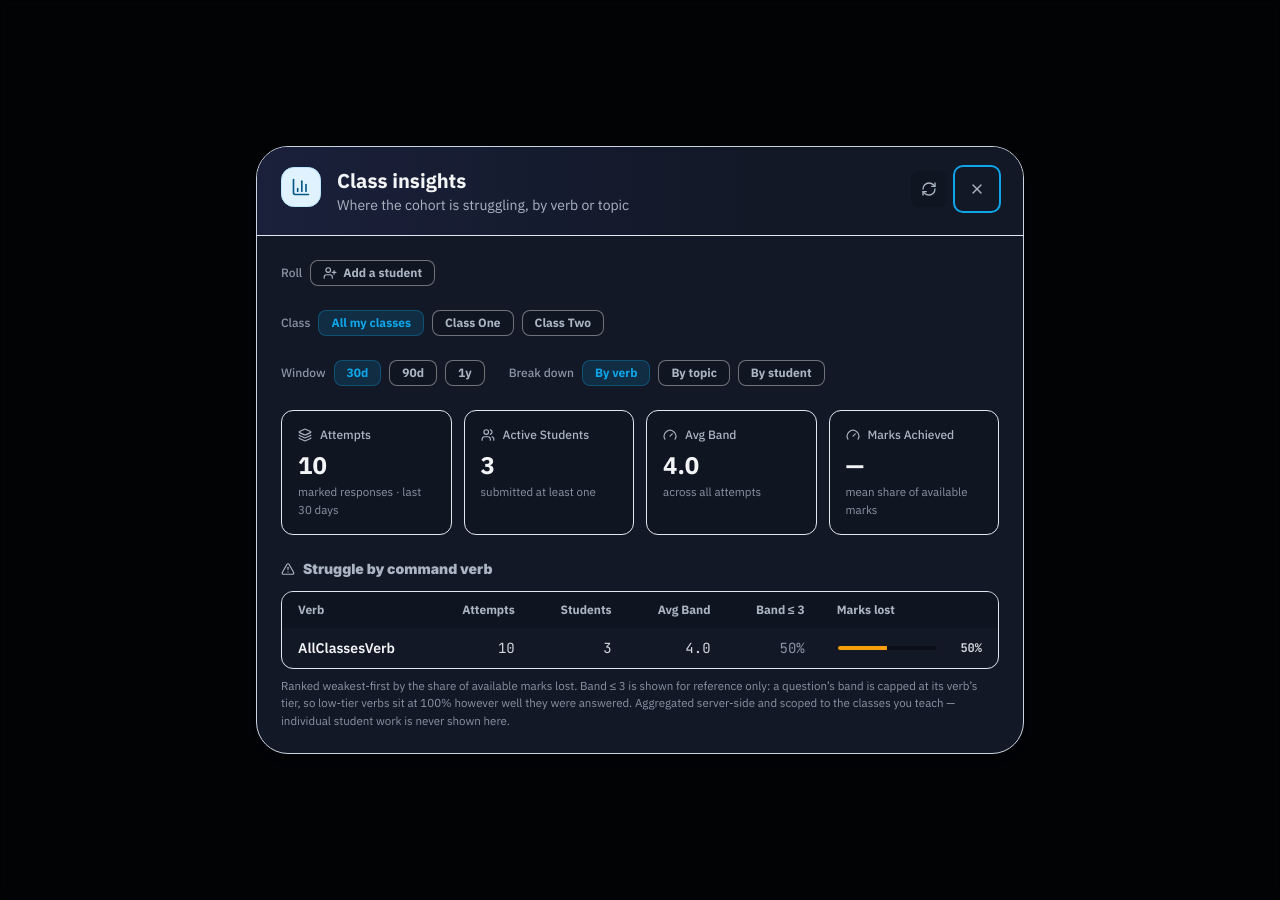
Test: Class Insights — the newest request wins › never shows one class’s figures under another class’s name
Expected: the text "AllClassesVerb" is shown, left=298, top=639, right=395, bottom=657
// Click through to Class One, then straight on to Class Two.
Click the button "Class One" at (473, 323), box left=432, top=310, right=514, bottom=336
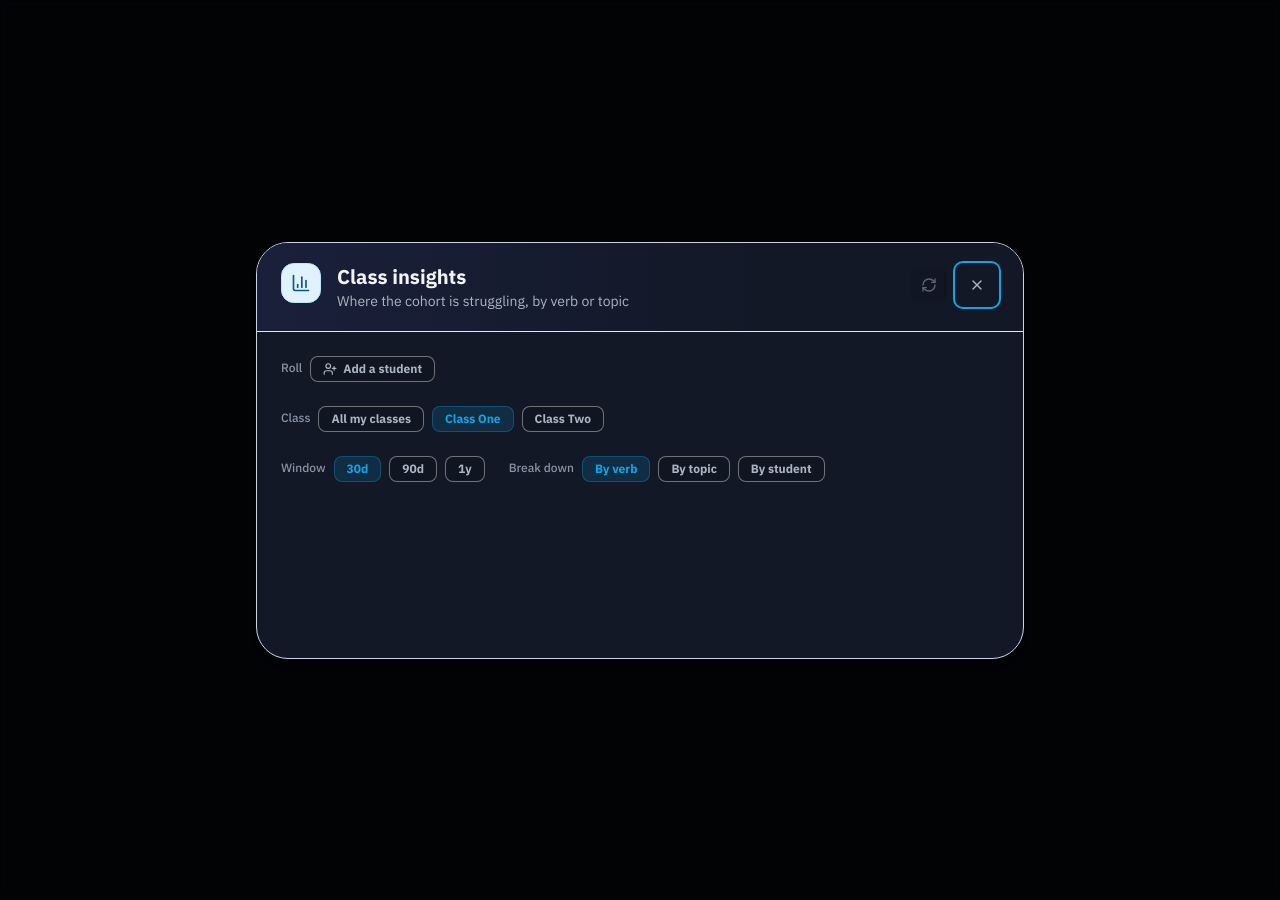
Click the button "Class Two" at (563, 418), box left=522, top=406, right=604, bottom=432
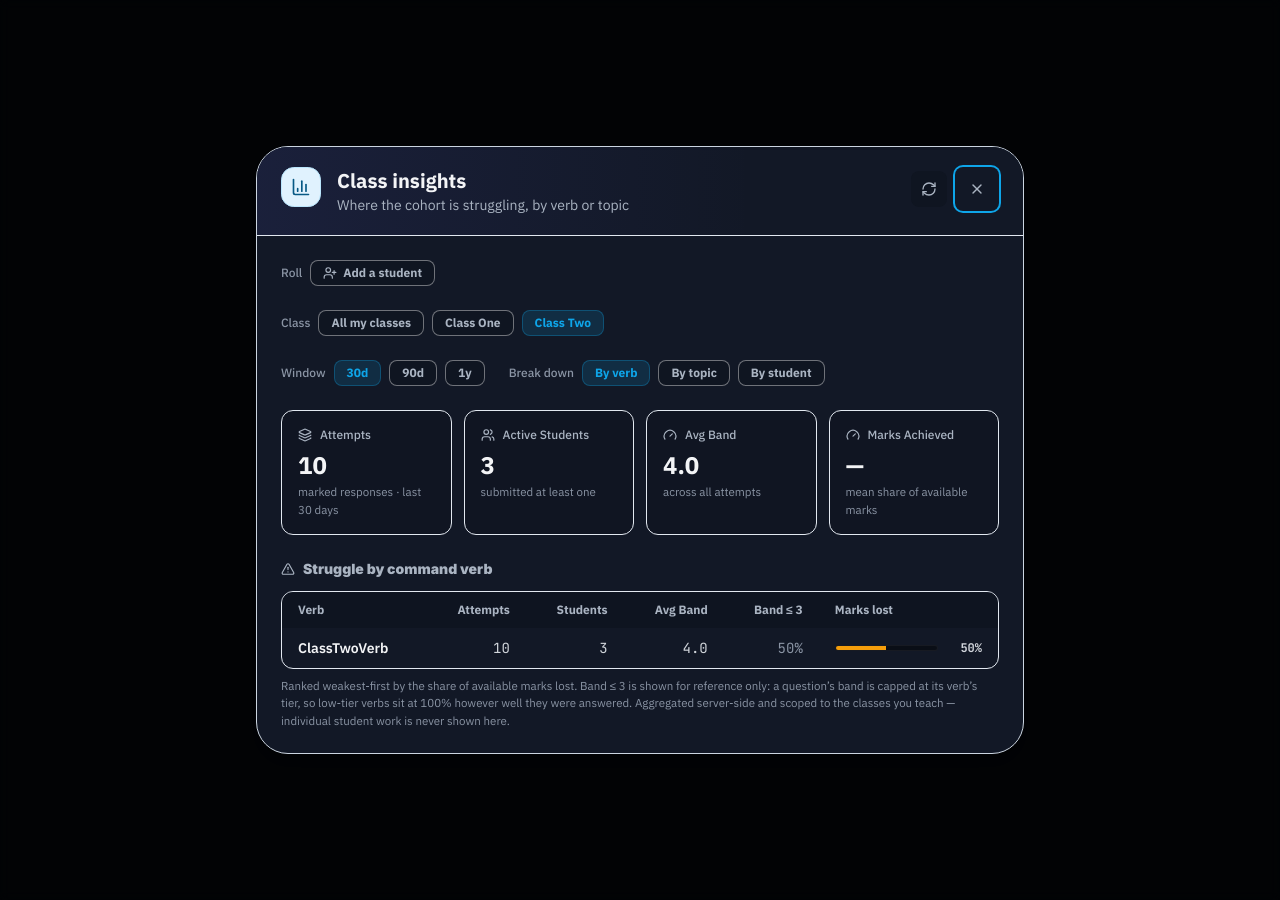
Expected: the text "AllClassesVerb" is not shown
Now the text "ClassTwoVerb" is shown, box left=298, top=639, right=388, bottom=657
